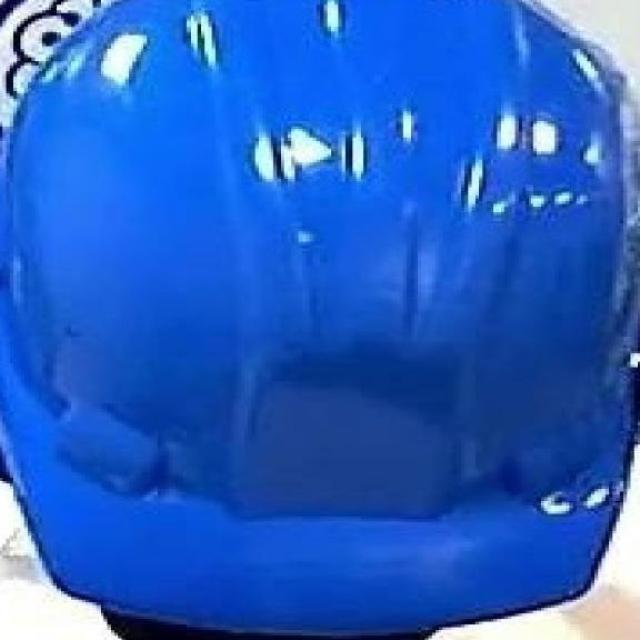blue helmet: (2, 1, 640, 640)
